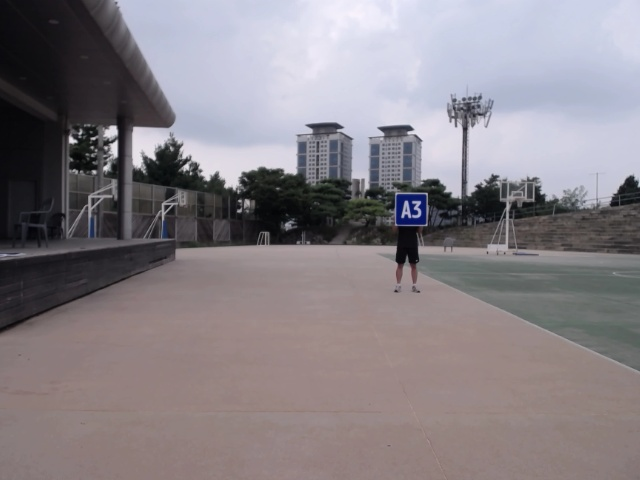delivery_a3: (395, 193, 428, 226)
